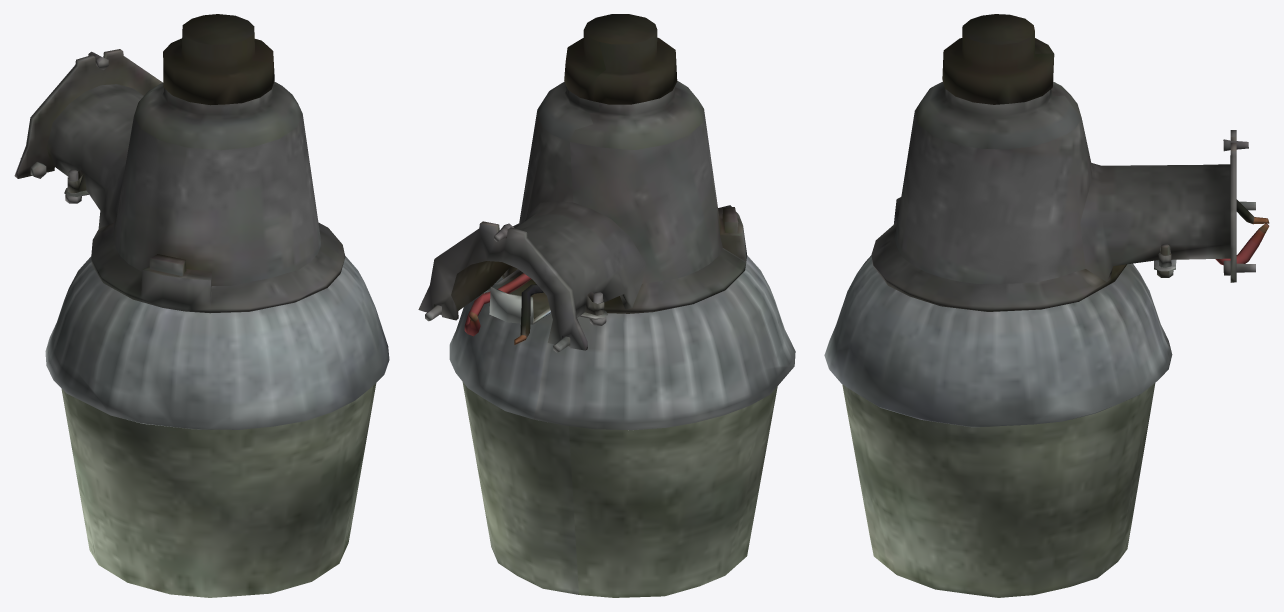
Rendered from security_light.glb.
3 views of the same model, side by side, from view 1: azimuth 30°, elevation 25°; view 2: azimuth 150°, elevation 25°; view 3: azimuth 270°, elevation 25° (orthographic).
Parts seen in each view (by area): view 1: security_light; view 2: security_light; view 3: security_light.
Boxes of the visible parts, bbox=[...] form: security_light: bbox=[14, 14, 389, 597]; security_light: bbox=[418, 14, 795, 597]; security_light: bbox=[824, 14, 1269, 597].
Size of the model in its own units: 0.3225 by 0.531 by 0.4168.
Materials: 3 (3 with a texture image).
